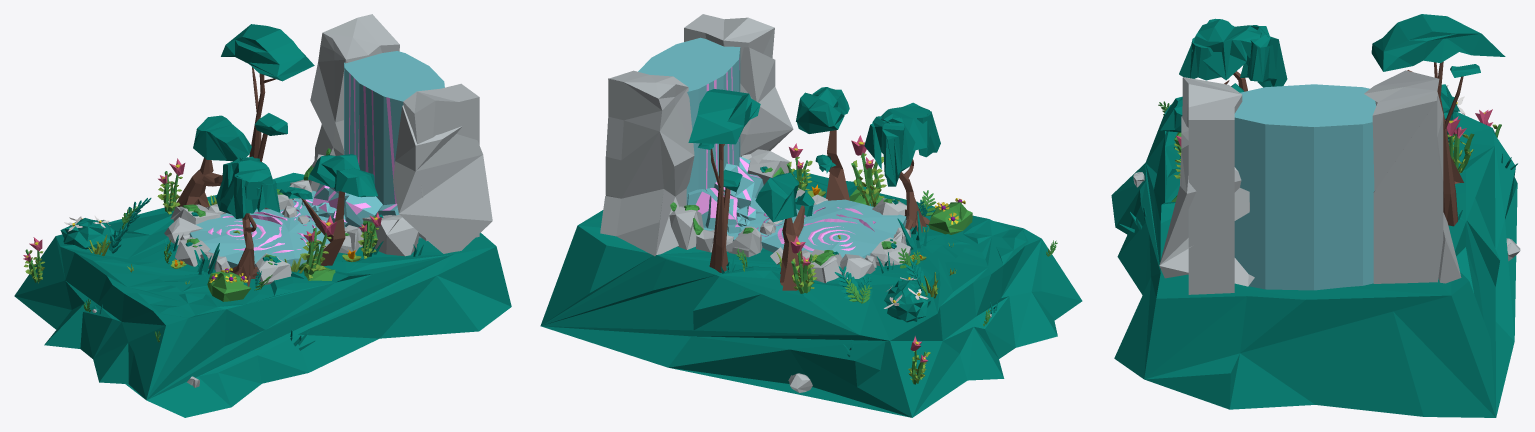
3 renders of one model, left to right at view 1: azimuth 30°, elevation 25°; view 2: azimuth 150°, elevation 25°; view 3: azimuth 270°, elevation 25°, orthographic. The views are drawn at different scales.
Visible parts, largest first — view 1: node_MeshObject-1770508928-PolyPaper11, node_MeshObject-457692992-PolyPaper1, node_MeshObject-1560112128-PolyPaper10, node_MeshObject-1631289344-PolyPaper11, node_MeshObject-418497344-PolyPaper9, node_MeshObject61027072-PolyGem25, node_MeshObject1341811456-PolyPaper10; view 2: node_MeshObject-1770508928-PolyPaper11, node_MeshObject-457692992-PolyPaper1, node_MeshObject-1560112128-PolyPaper10, node_MeshObject-1631289344-PolyPaper11, node_MeshObject-418497344-PolyPaper9, node_MeshObject61027072-PolyGem25, node_MeshObject1341811456-PolyPaper10; view 3: node_MeshObject-1770508928-PolyPaper11, node_MeshObject-457692992-PolyPaper1, node_MeshObject-418497344-PolyPaper9, node_MeshObject-1560112128-PolyPaper10, node_MeshObject-1631289344-PolyPaper11.
Part boxes in pixels (x1,y1,x2,y2): node_MeshObject-1770508928-PolyPaper11: [14, 24, 511, 417]; node_MeshObject-457692992-PolyPaper1: [68, 14, 444, 312]; node_MeshObject-1560112128-PolyPaper10: [64, 105, 492, 387]; node_MeshObject-1631289344-PolyPaper11: [23, 62, 377, 350]; node_MeshObject-418497344-PolyPaper9: [26, 67, 479, 342]; node_MeshObject61027072-PolyGem25: [208, 73, 397, 253]; node_MeshObject1341811456-PolyPaper10: [102, 171, 419, 285]; node_MeshObject-1770508928-PolyPaper11: [540, 89, 1082, 417]; node_MeshObject-457692992-PolyPaper1: [600, 37, 990, 356]; node_MeshObject-1560112128-PolyPaper10: [703, 47, 1056, 301]; node_MeshObject-1631289344-PolyPaper11: [670, 87, 1057, 392]; node_MeshObject-418497344-PolyPaper9: [669, 14, 1056, 368]; node_MeshObject61027072-PolyGem25: [695, 58, 875, 250]; node_MeshObject1341811456-PolyPaper10: [723, 149, 942, 293]; node_MeshObject-1770508928-PolyPaper11: [1111, 14, 1517, 417]; node_MeshObject-457692992-PolyPaper1: [1179, 18, 1517, 290]; node_MeshObject-418497344-PolyPaper9: [1161, 76, 1492, 294]; node_MeshObject-1560112128-PolyPaper10: [1130, 84, 1468, 286]; node_MeshObject-1631289344-PolyPaper11: [1119, 61, 1520, 261].
Size of the model in its own units: 2.93 by 1.7 by 2.06.
